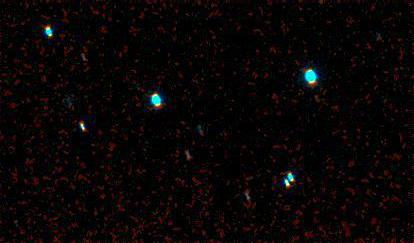star: (167, 137, 197, 167)
